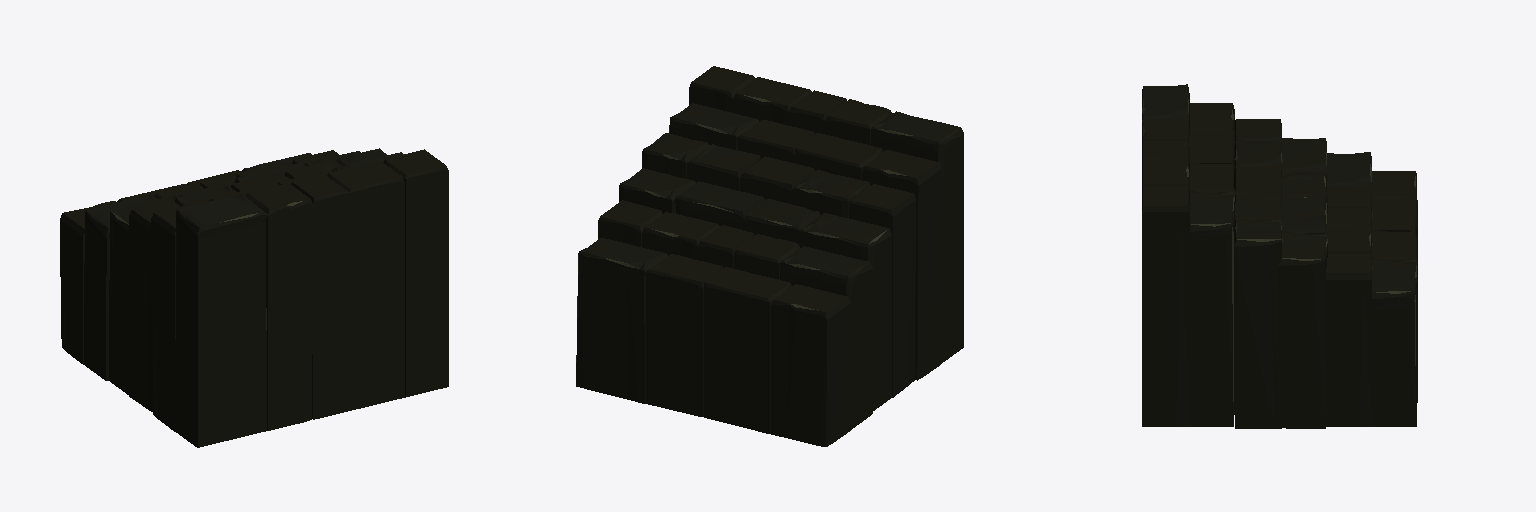
File: Stairs_2.obj
3 views of the same model, side by side, from view 1: azimuth 30°, elevation 25°; view 2: azimuth 150°, elevation 25°; view 3: azimuth 270°, elevation 25° (orthographic).
Visible parts, largest first — view 1: Stairs_2; view 2: Stairs_2; view 3: Stairs_2.
Part boxes in pixels (left/top/right/bottom): Stairs_2: left=60, top=148, right=448, bottom=447; Stairs_2: left=576, top=66, right=963, bottom=446; Stairs_2: left=1142, top=84, right=1417, bottom=428.
Bounding box in the file's own units: 2.15 × 1.78 × 2.02.